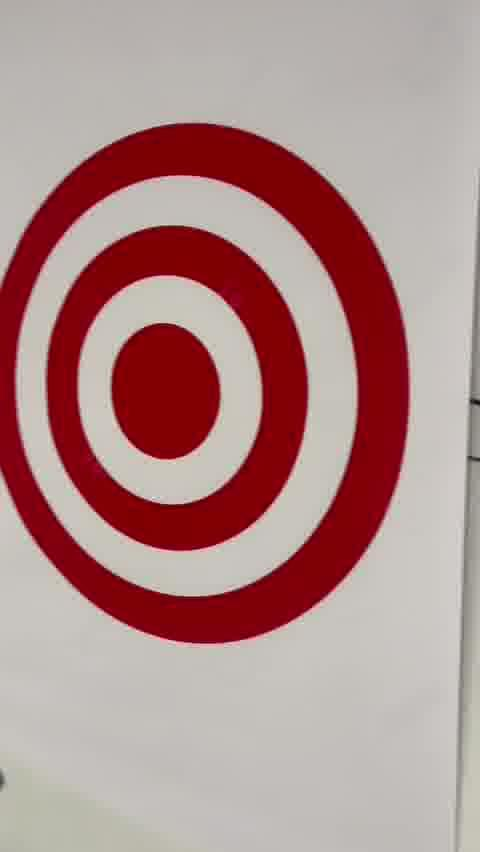target_red: (0, 119, 409, 643)
